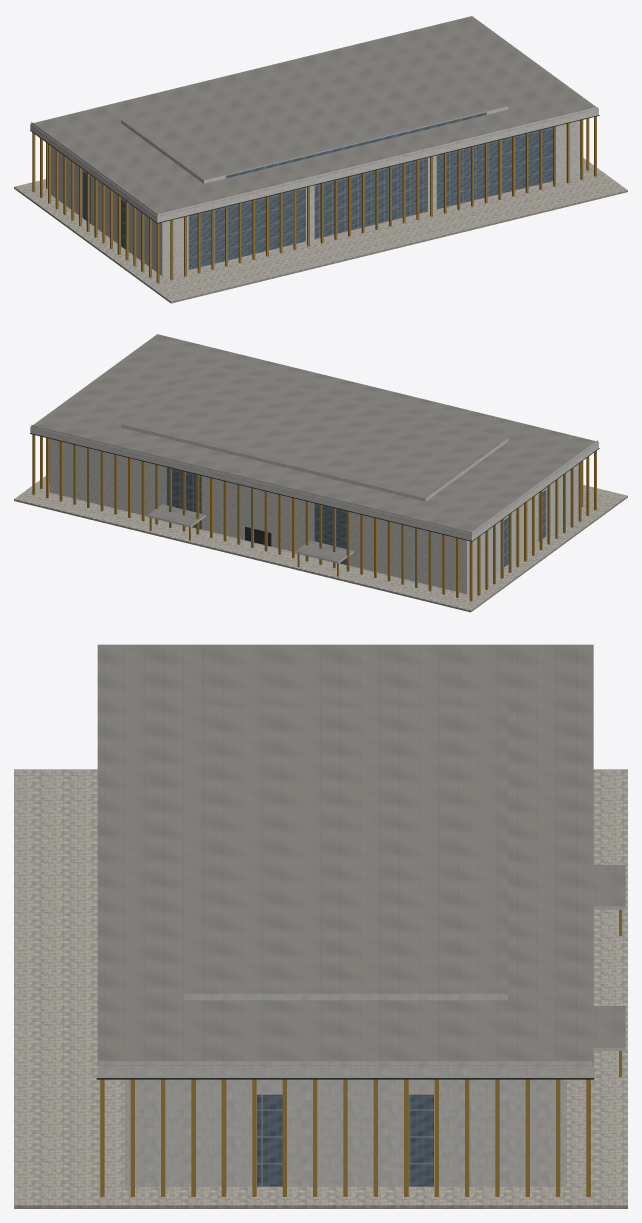
File: kennedy_center.glb
3 views of the same model, one above another, from view 1: azimuth 30°, elevation 25°; view 2: azimuth 150°, elevation 25°; view 3: azimuth 270°, elevation 25° (orthographic). The views are drawn at different scales.
Parts seen in each view (by area): view 1: kennedy_center; view 2: kennedy_center; view 3: kennedy_center.
Part boxes in pixels (left/top/right/bottom): kennedy_center: left=14, top=16, right=627, bottom=303; kennedy_center: left=14, top=334, right=627, bottom=612; kennedy_center: left=14, top=644, right=627, bottom=1208.
Bounding box in the file's own units: 210 × 31.99 × 125.
Materials: 5 (5 with a texture image).
